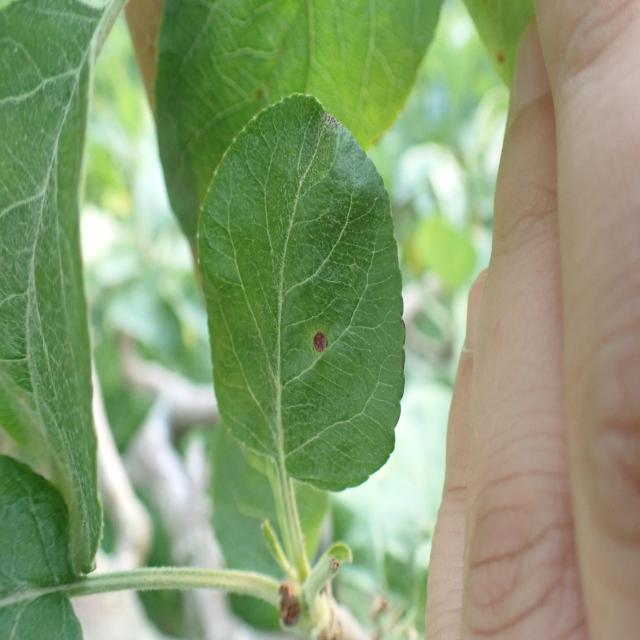Black Rot: (288, 319, 343, 375)
